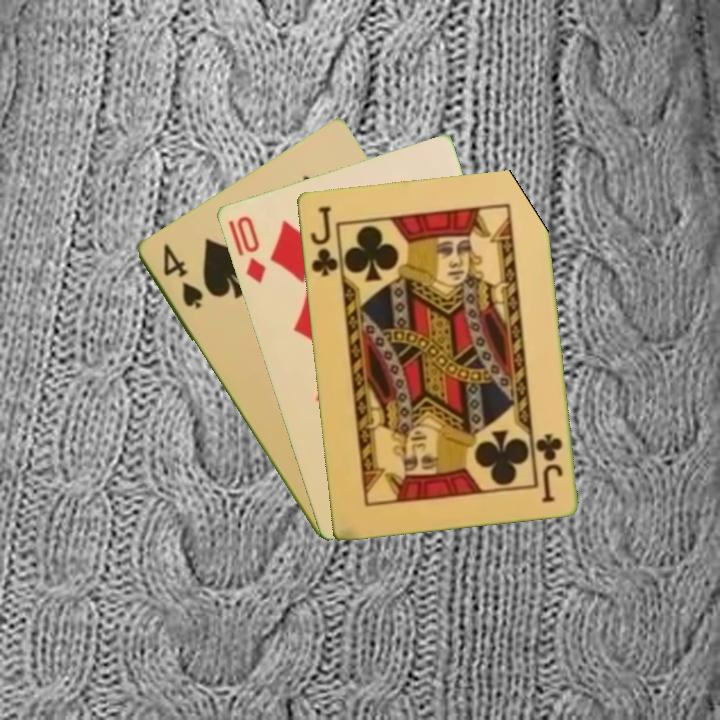10d: (233, 212, 269, 286)
4s: (158, 240, 206, 312)
Jc: (306, 202, 340, 280), (532, 430, 565, 505)
